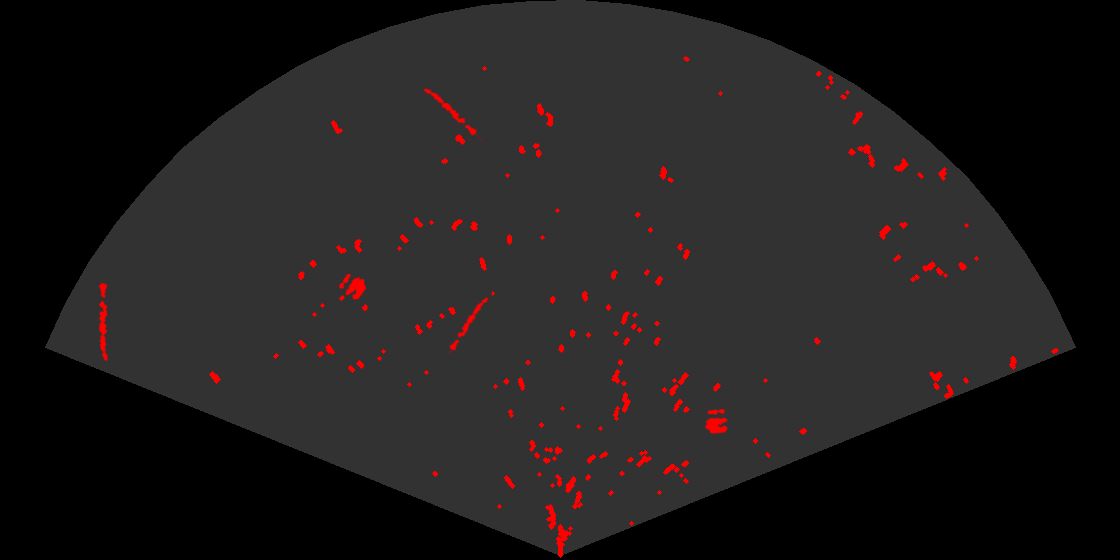ball: (337, 272, 368, 301), (704, 407, 730, 435)
chain: (422, 87, 485, 141), (446, 289, 492, 354), (97, 282, 109, 362)
